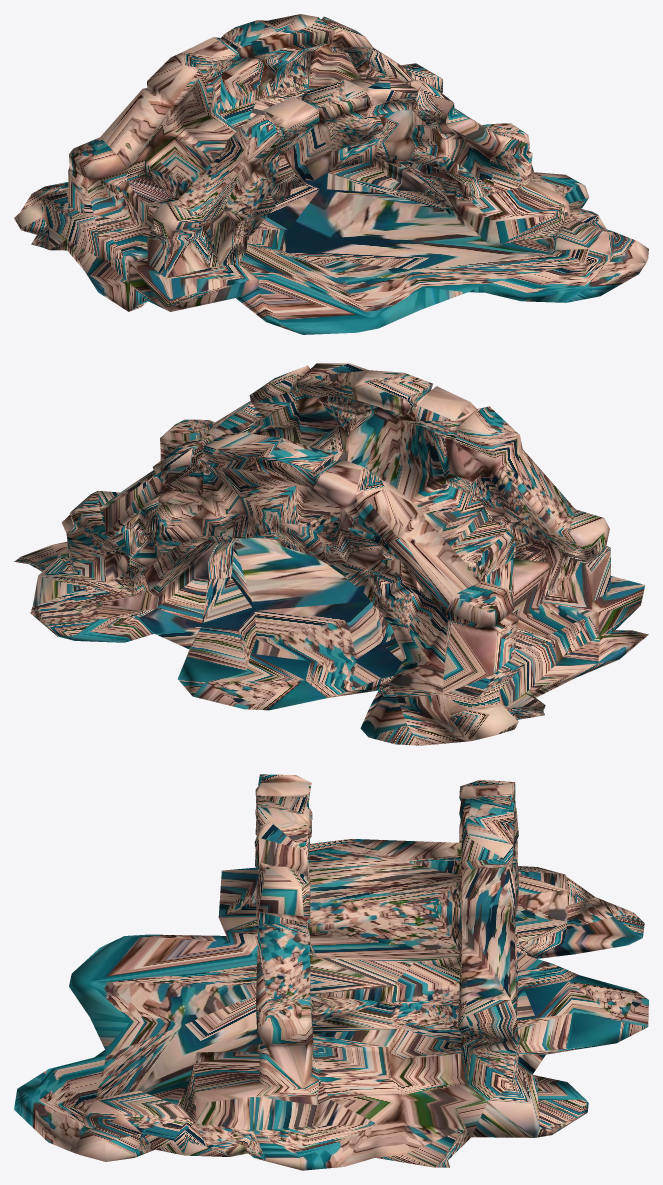
File: Stone_Bridge.glb
3 renders of one model, top to bottom at view 1: azimuth 30°, elevation 25°; view 2: azimuth 150°, elevation 25°; view 3: azimuth 270°, elevation 25°, orthographic. The views are drawn at different scales.
Visible parts, largest first — view 1: Stone_Bridge; view 2: Stone_Bridge; view 3: Stone_Bridge.
Boxes of the visible parts, <box> form: Stone_Bridge: <box>14,14,648,334</box>; Stone_Bridge: <box>14,363,648,745</box>; Stone_Bridge: <box>14,774,648,1170</box>.
Bounding box in the file's own units: 1.9 × 0.6413 × 1.76.
1 material, 1 textured.
